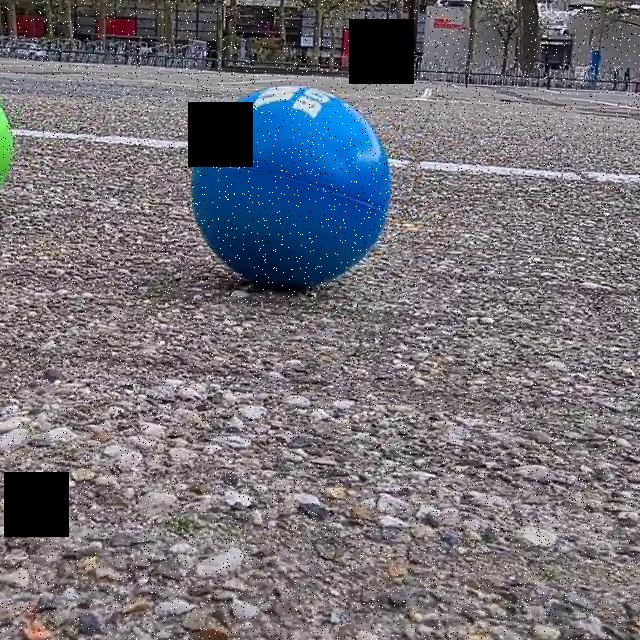ball: (188, 82, 396, 299)
